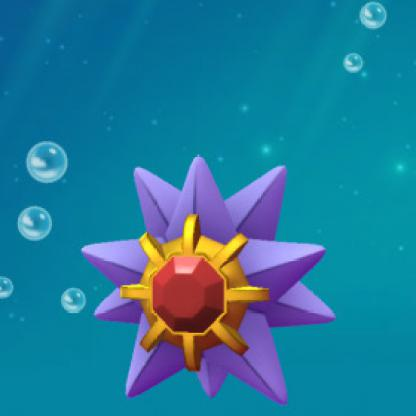Starmie: (85, 139, 339, 410)
